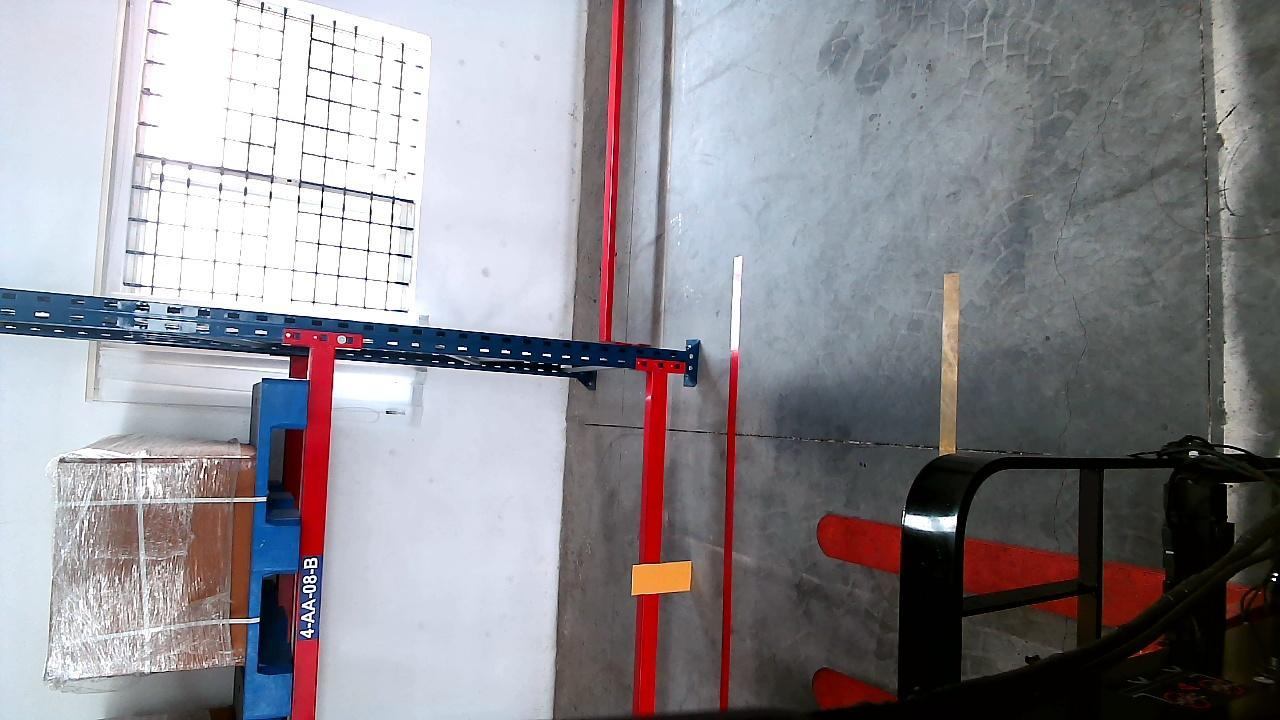red_line: (722, 256, 744, 712)
yellow_line: (935, 272, 961, 455)
